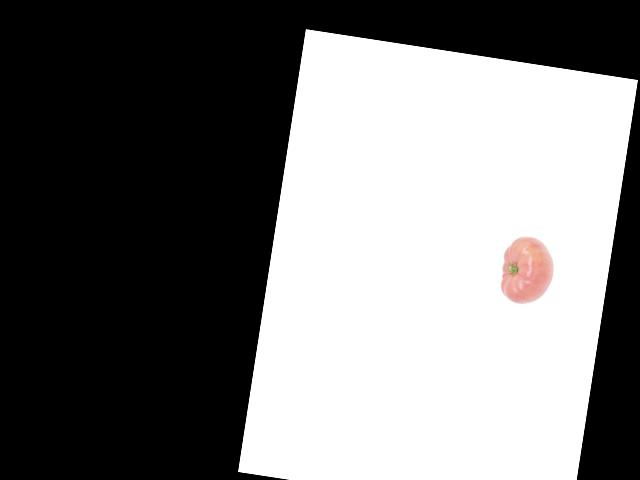tomato: (498, 233, 557, 307)
